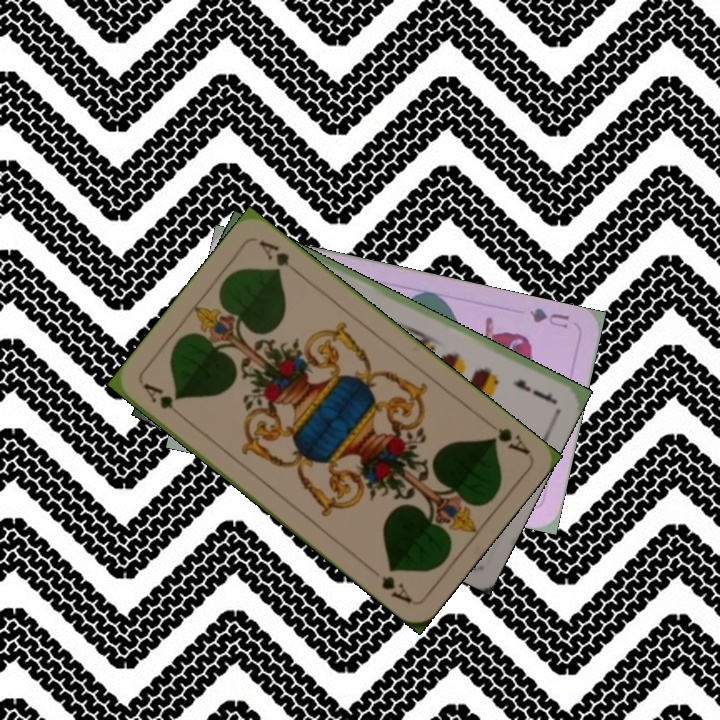E7: (508, 375, 558, 406)
GA: (139, 378, 188, 421), (484, 424, 532, 457)
GU: (525, 304, 572, 331)
